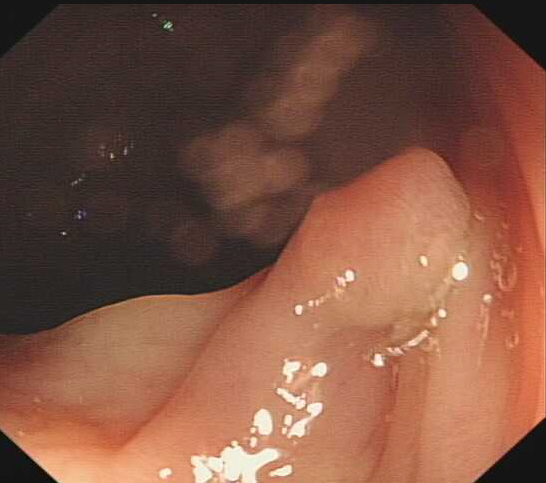adenoma: (303, 147, 475, 333)
